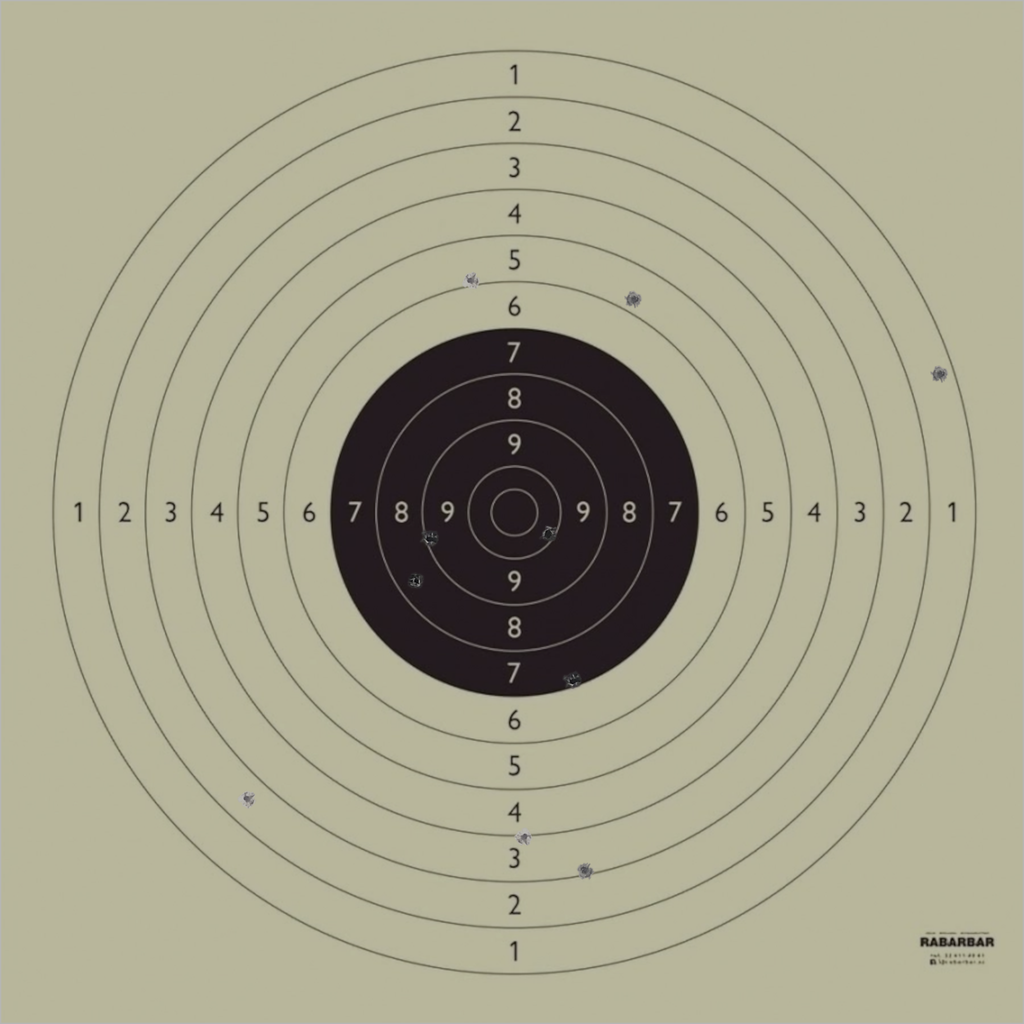0 punktow: (88, 34, 106, 53)
1 punkt: (931, 365, 949, 383)
10 punktow: (539, 525, 558, 543)
2 punkty: (238, 790, 256, 808)
3 punkty: (576, 861, 594, 880)
4 punkty: (515, 828, 534, 846)
5 punktow: (625, 290, 643, 309)
6 punktow: (462, 271, 480, 290)
7 punktow: (563, 672, 582, 690)
8 punktow: (407, 572, 426, 591)
9 punktow: (420, 530, 438, 548)
